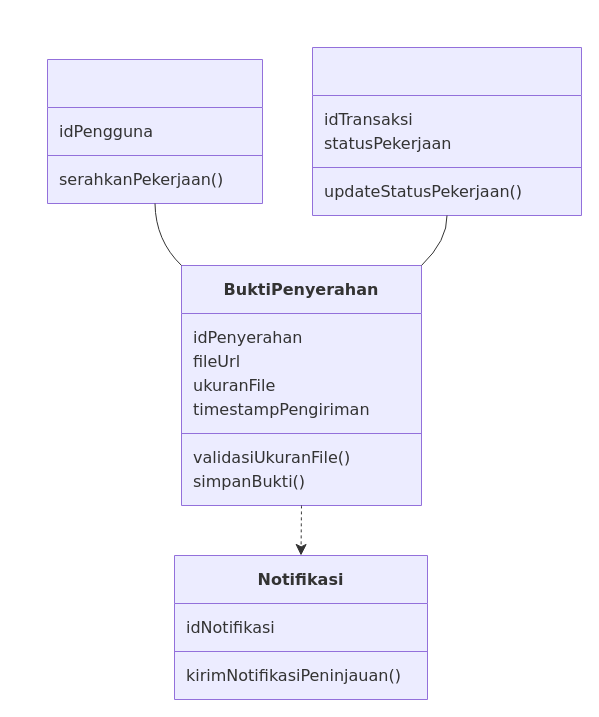
The diagram is 599 pixels wide and 717 high, and some of its shapes have lost their labels. Here are the shapes that lost their labels. From the top down, the box of each, then its label:
(46, 58, 262, 204): TenagaKerja
(312, 46, 582, 216): TransaksiPekerjaan
